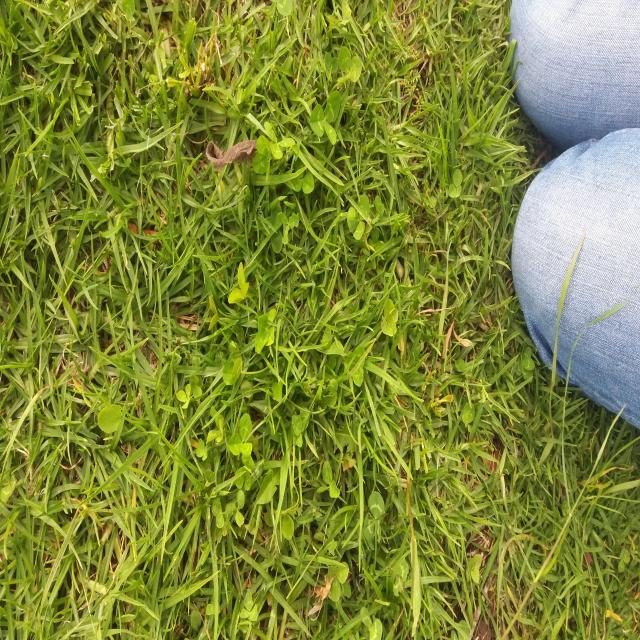Four Leaf Clover: (256, 309, 276, 354), (381, 298, 398, 336)
